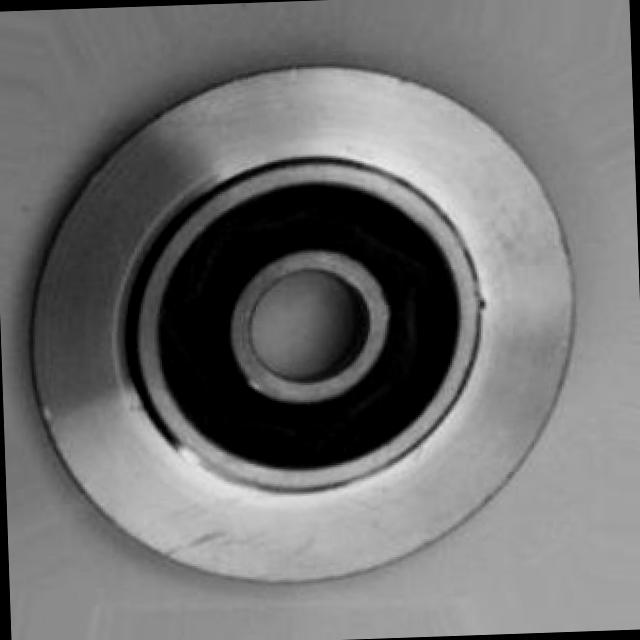Defect: (469, 290, 496, 319)
